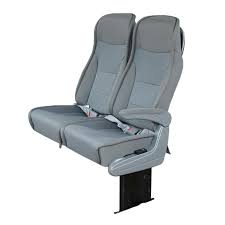seat: (36, 70, 167, 166)
